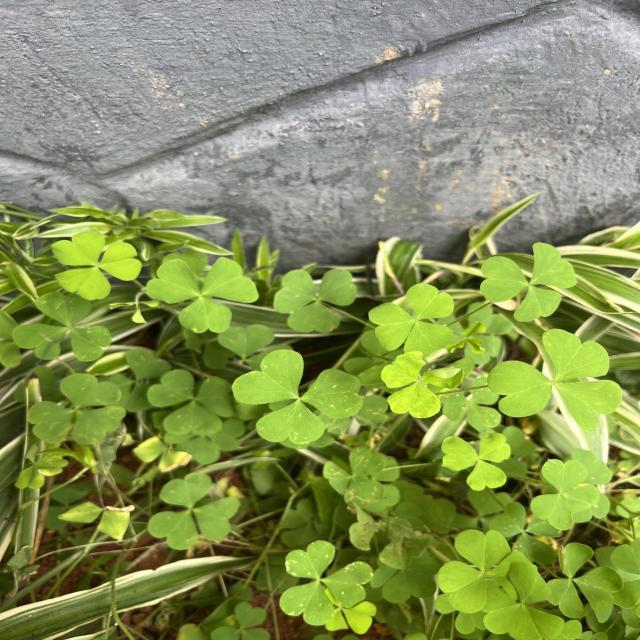Oxalis corniculata: (484, 328, 624, 432), (230, 348, 365, 445), (436, 528, 550, 614), (145, 256, 260, 335), (278, 538, 374, 627), (480, 242, 578, 324), (146, 471, 242, 551), (27, 372, 128, 445), (11, 291, 113, 363), (368, 282, 456, 360), (50, 230, 144, 302), (378, 350, 464, 420), (146, 368, 234, 436), (272, 266, 358, 334), (529, 458, 601, 531), (438, 432, 512, 492), (322, 446, 388, 510)
